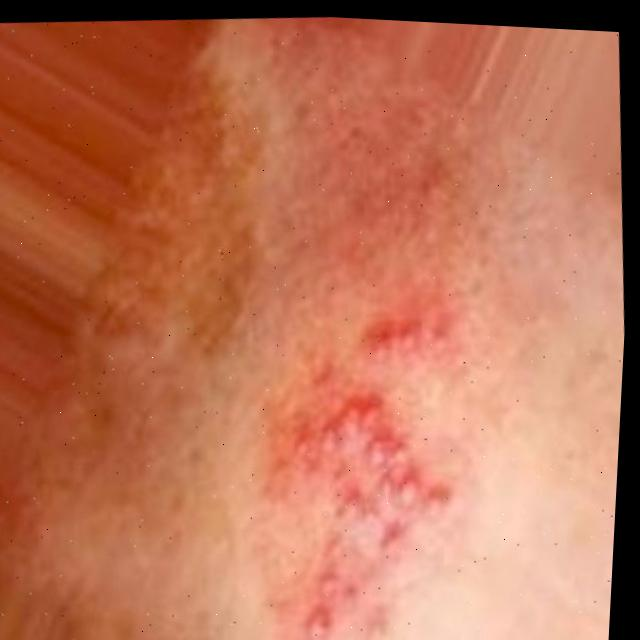Shingles: (262, 372, 476, 640), (361, 306, 461, 362)
